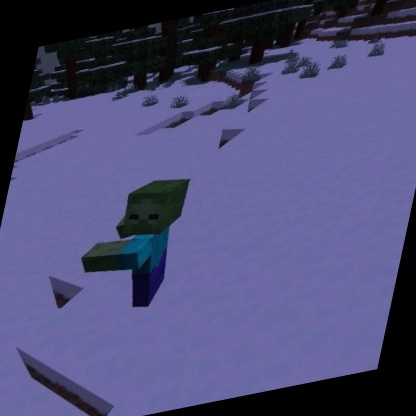zombie: (62, 168, 197, 326)
